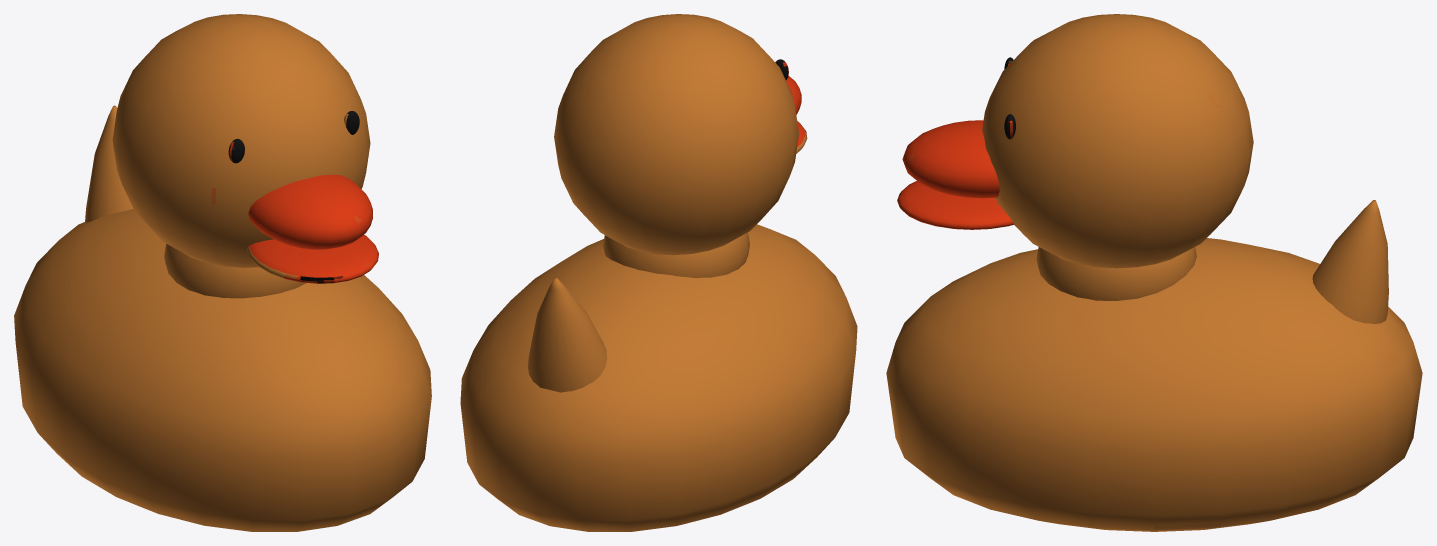
Rendered from result.glb.
3 views of the same model, side by side, from view 1: azimuth 30°, elevation 25°; view 2: azimuth 150°, elevation 25°; view 3: azimuth 270°, elevation 25° (orthographic). The views are drawn at different scales.
Parts seen in each view (by area): view 1: Body, head, Neck, Tail; view 2: Body, head, Tail, Neck; view 3: Body, head, Tail, Neck.
Boxes of the visible parts, x1=… form: Body: x1=14, y1=208, x2=431, y2=531; head: x1=112, y1=14, x2=378, y2=283; Neck: x1=164, y1=244, x2=306, y2=298; Tail: x1=85, y1=105, x2=133, y2=222; Body: x1=460, y1=224, x2=857, y2=531; head: x1=554, y1=14, x2=807, y2=255; Tail: x1=527, y1=278, x2=607, y2=392; Neck: x1=603, y1=232, x2=749, y2=277; Body: x1=886, y1=238, x2=1422, y2=531; head: x1=897, y1=14, x2=1253, y2=268; Tail: x1=1312, y1=200, x2=1388, y2=323; Neck: x1=1036, y1=247, x2=1196, y2=300.
Bounding box in the file's own units: 0.712 × 0.94 × 1.
6 materials, 6 textured.
